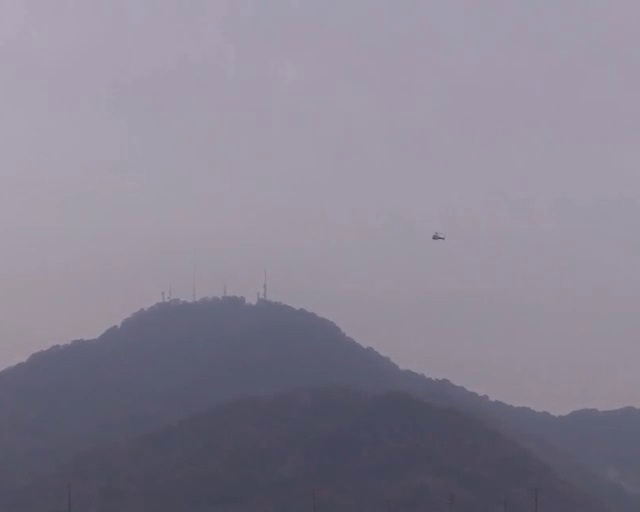HELICOPTER: (432, 231, 445, 240)
